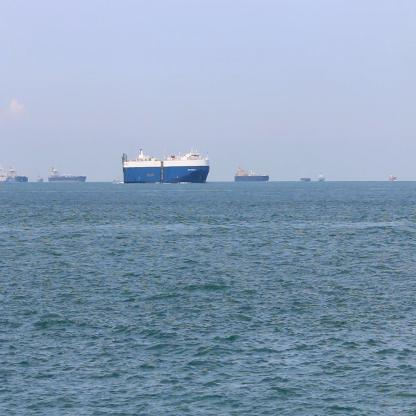Container Ship: (120, 152, 210, 184), (234, 164, 270, 183), (46, 167, 86, 182), (6, 164, 29, 188), (0, 168, 10, 185), (314, 171, 325, 185), (389, 170, 397, 184)
